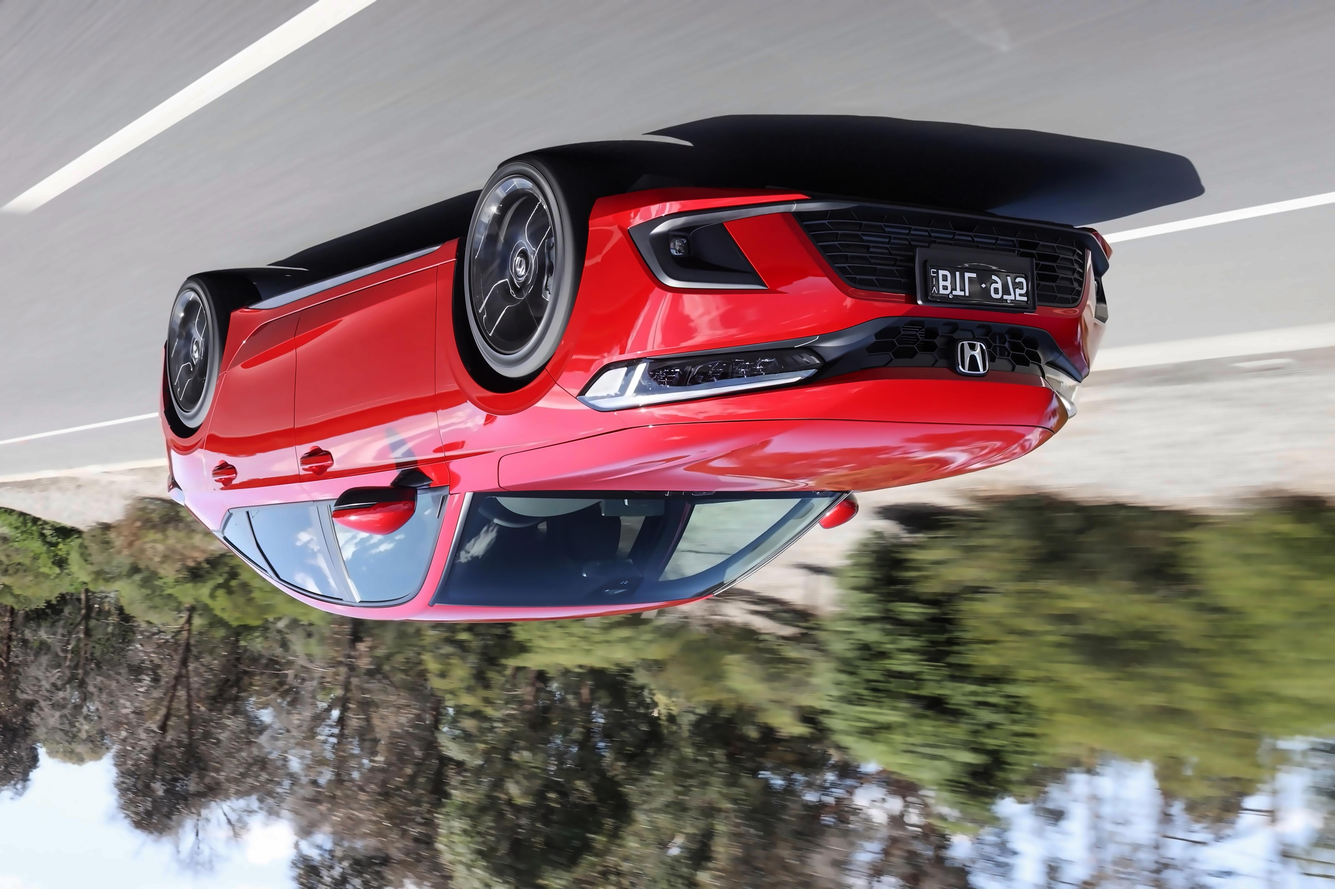Car hood: (496, 404, 1067, 536)
Fender - -F-L-: (441, 238, 588, 494)
Fender - -R-L-: (157, 291, 234, 541)
Front bumper: (577, 169, 1129, 359)
Headlight - -L-: (580, 339, 821, 426)
Headlight - -R-: (1025, 348, 1090, 434)
Passenger-s door - -F-L-: (287, 243, 450, 638)
Passenger-s door - -R-L-: (194, 261, 357, 648)
Side bumper - -L-: (204, 224, 464, 390)
Side mirror - -L-: (328, 486, 420, 549)
Side mirror - -R-: (820, 491, 863, 540)
